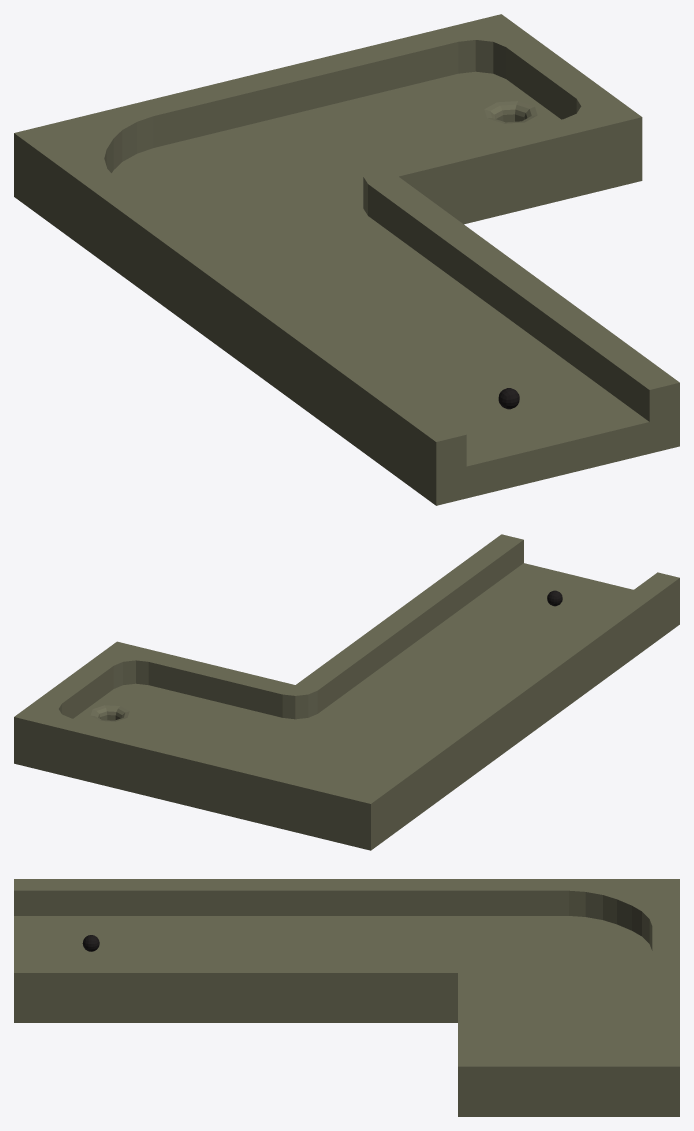
3 views of the same model, one above another, from view 1: azimuth 30°, elevation 25°; view 2: azimuth 150°, elevation 25°; view 3: azimuth 270°, elevation 25° (orthographic). The views are drawn at different scales.
Visible parts, largest first — view 1: Cube.003, Cube.002, Cube.001, Cube; view 2: Cube.002, Cube.001, Cube, Cube.003; view 3: Cube, Cube.003, Cube.002, Cube.001.
Part boxes in pixels (x1=…): Cube.003: x1=295, y1=279, x2=679, y2=505; Cube.002: x1=258, y1=14, x2=642, y2=224; Cube.001: x1=14, y1=73, x2=397, y2=299; Cube: x1=154, y1=176, x2=538, y2=402; Cube.002: x1=14, y1=641, x2=294, y2=806; Cube.001: x1=192, y1=685, x2=473, y2=850; Cube: x1=296, y1=609, x2=576, y2=774; Cube.003: x1=399, y1=534, x2=679, y2=699; Cube: x1=236, y1=879, x2=457, y2=1022; Cube.003: x1=14, y1=879, x2=235, y2=1022; Cube.002: x1=458, y1=973, x2=679, y2=1116; Cube.001: x1=458, y1=879, x2=679, y2=997.
Bounding box in the file's own units: 800 × 100 × 1200.
